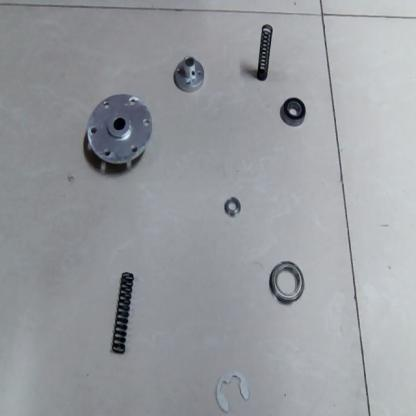FOD: (83, 90, 156, 174), (108, 267, 138, 360), (210, 368, 254, 415), (266, 260, 307, 307), (252, 21, 276, 86), (172, 51, 206, 95), (277, 94, 310, 127), (219, 194, 244, 220)
